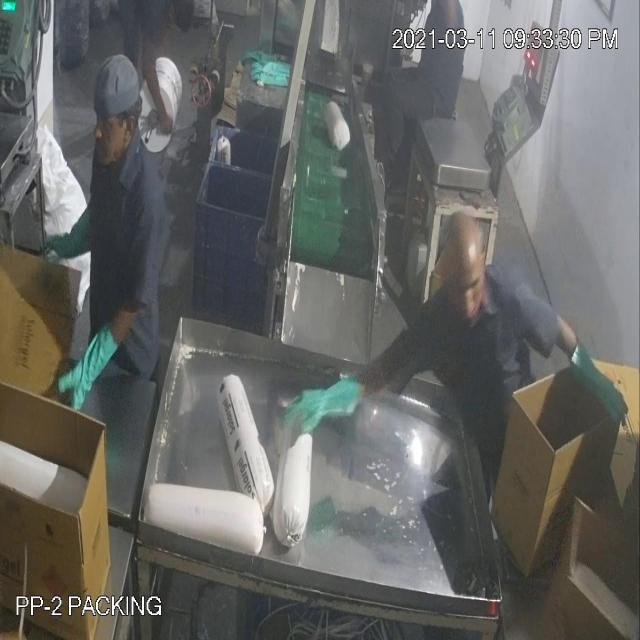gloves: (53, 327, 129, 430), (571, 336, 633, 440), (293, 368, 368, 440)
